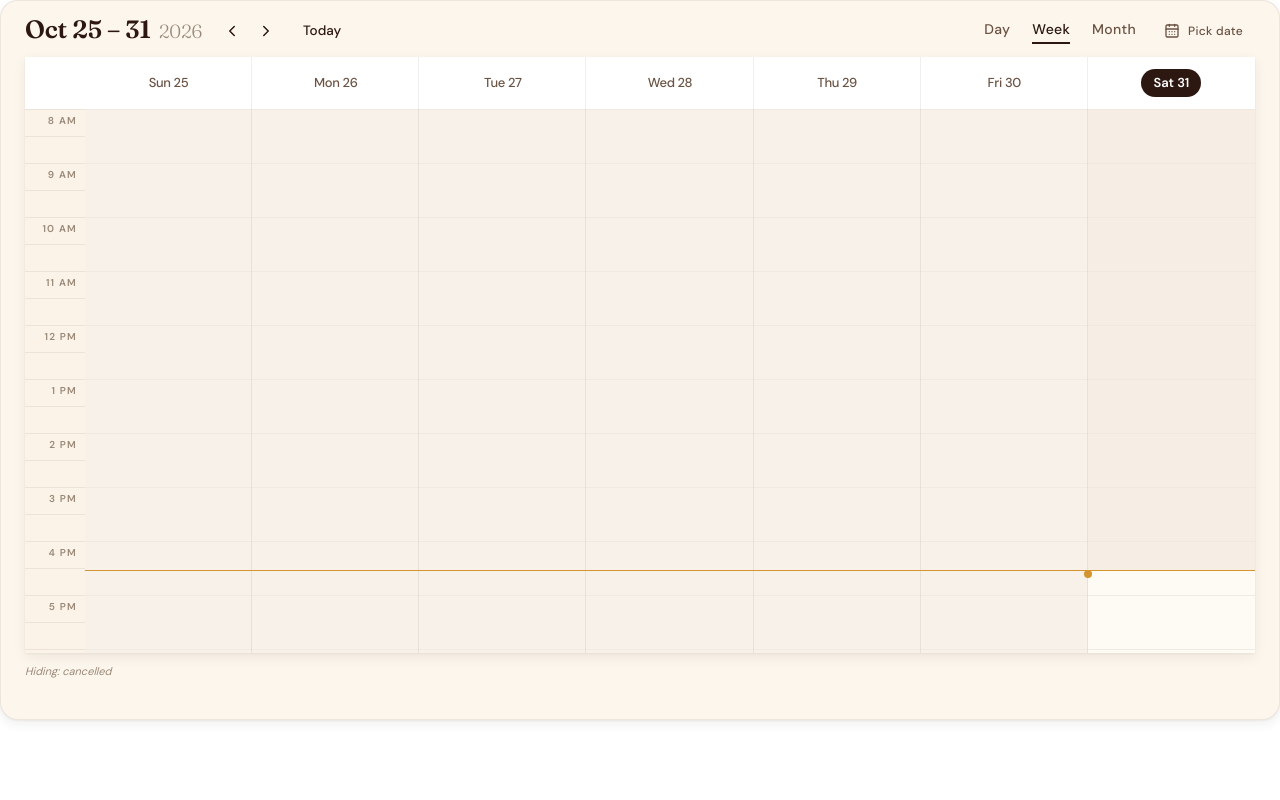
Test case: selecting days on the calendar › Escape and the clear button let go of the selection
(page scrolled)
Press Enter in the button with aria-label "Select ", box [419,57,586,109]
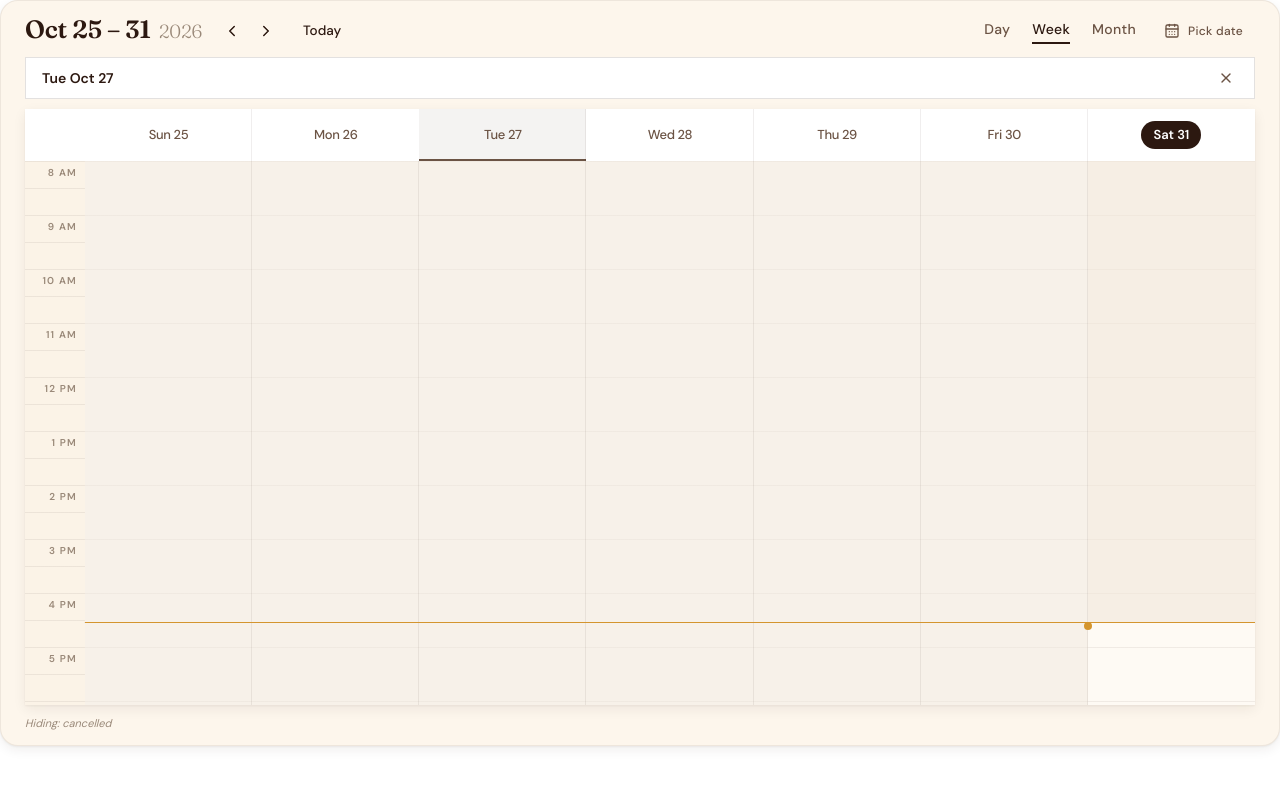
Expected: the element with test id "calendar-range-selection" is shown, [25,57,1255,99]
Press Escape
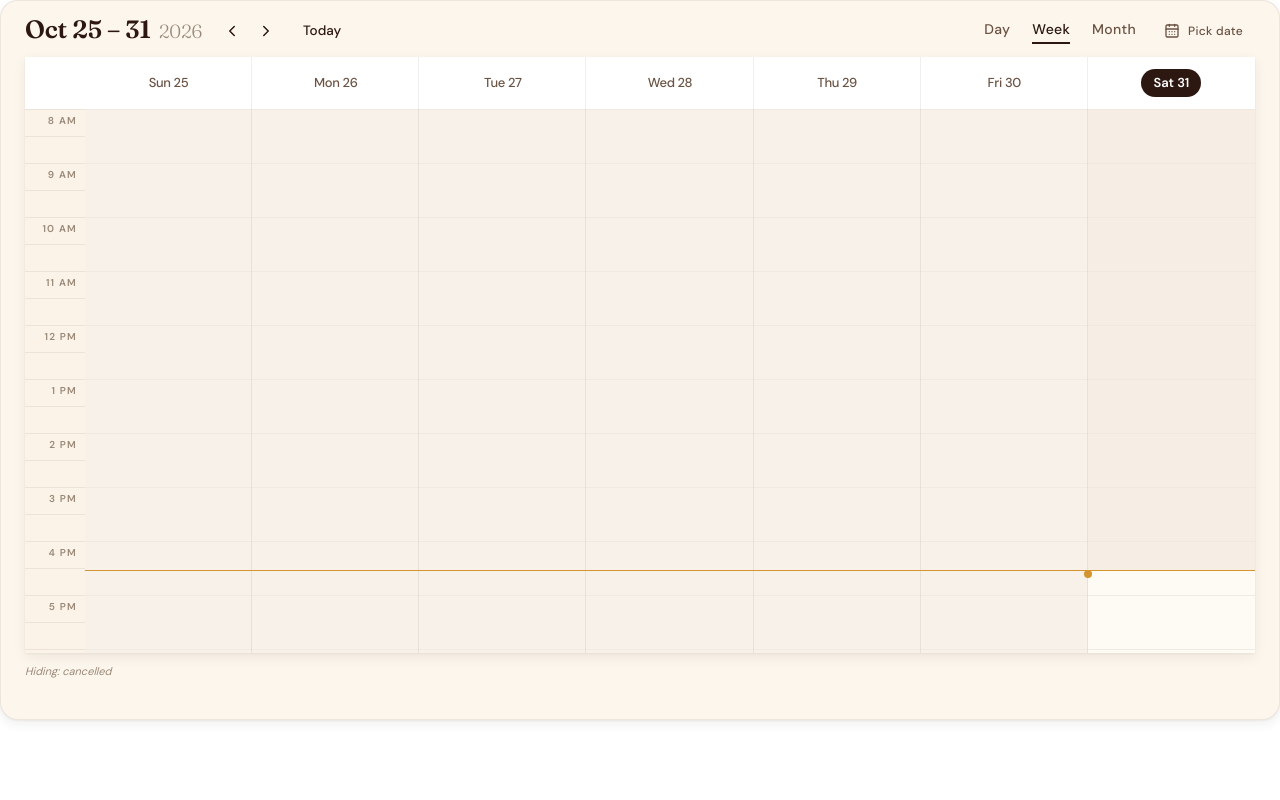
Expected: the element with test id "calendar-range-selection" is gone
Press Enter in the button with aria-label "Select ", box [419,57,586,109]
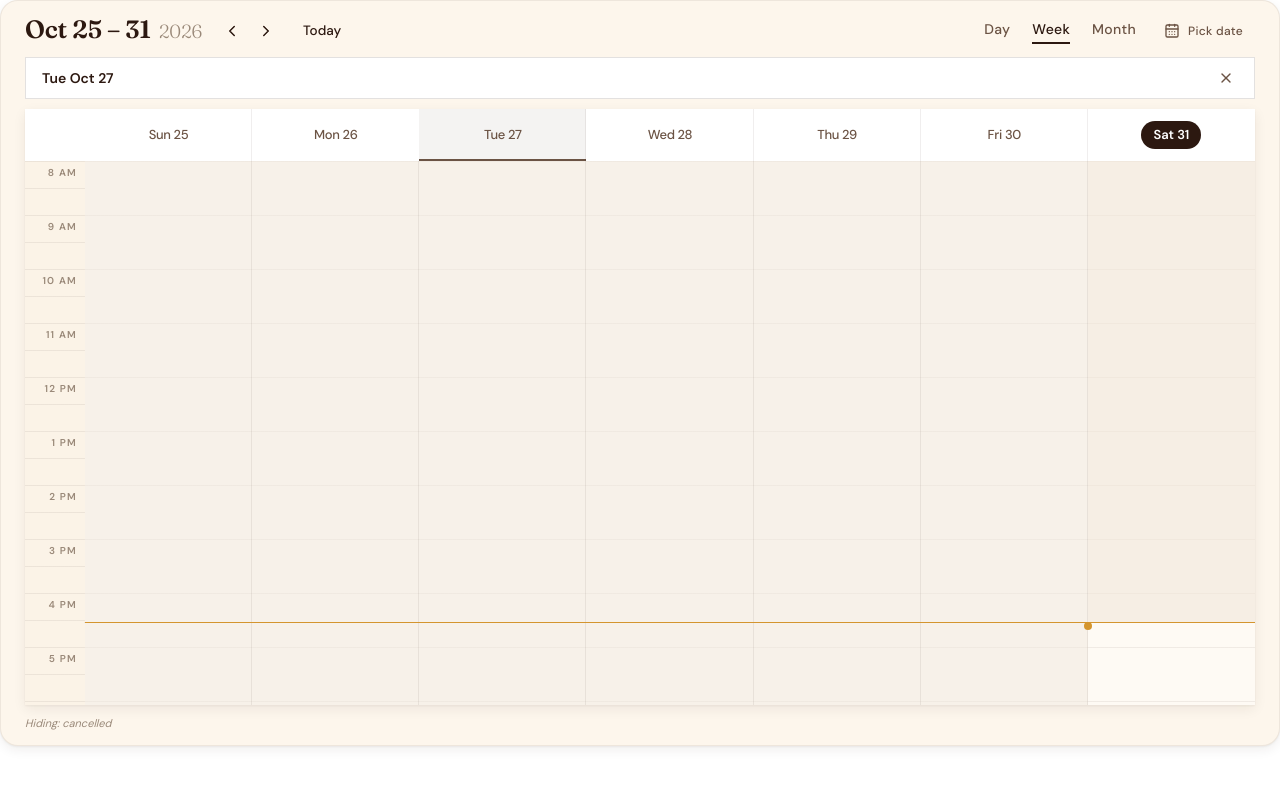
Click the button named "Clear selected dates".
click(1226, 78)  # box [1214,66,1238,90]
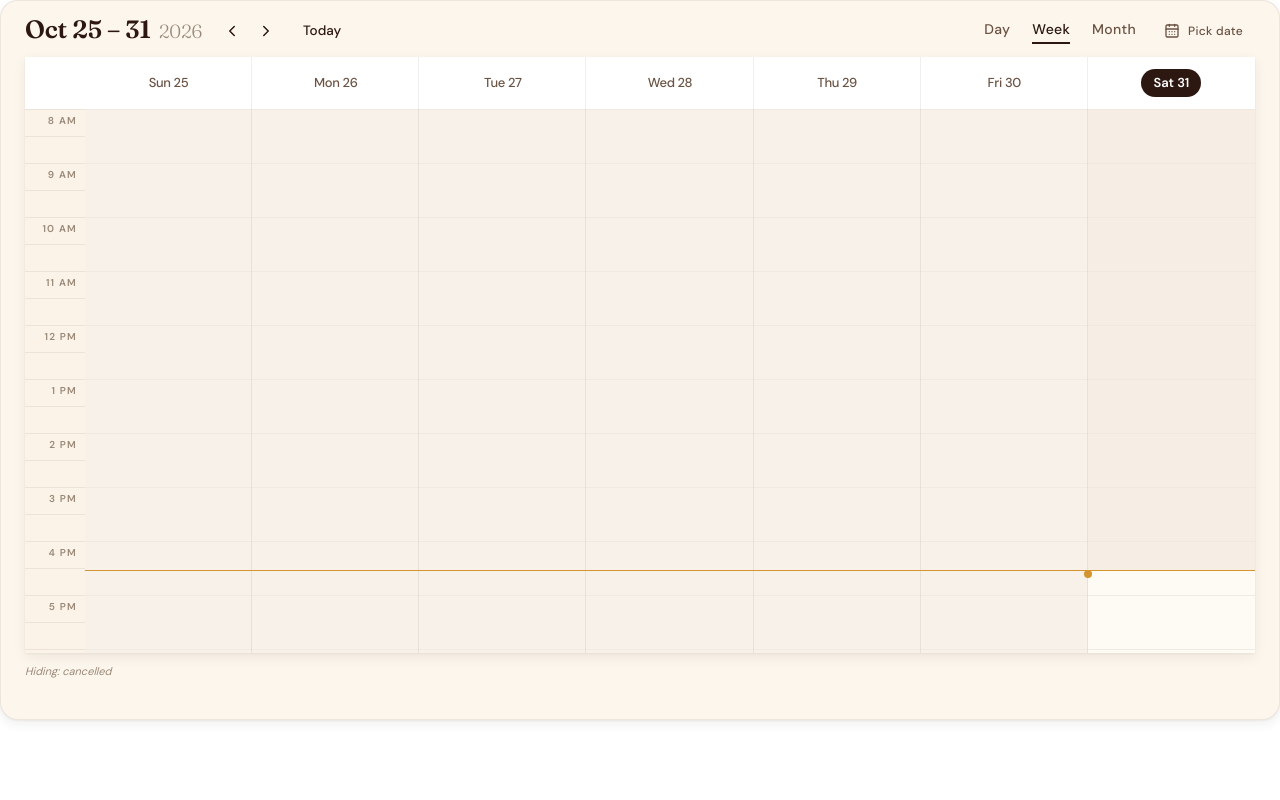
Expected: the element with test id "calendar-range-selection" is gone
